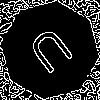U: (25, 25, 82, 84)
